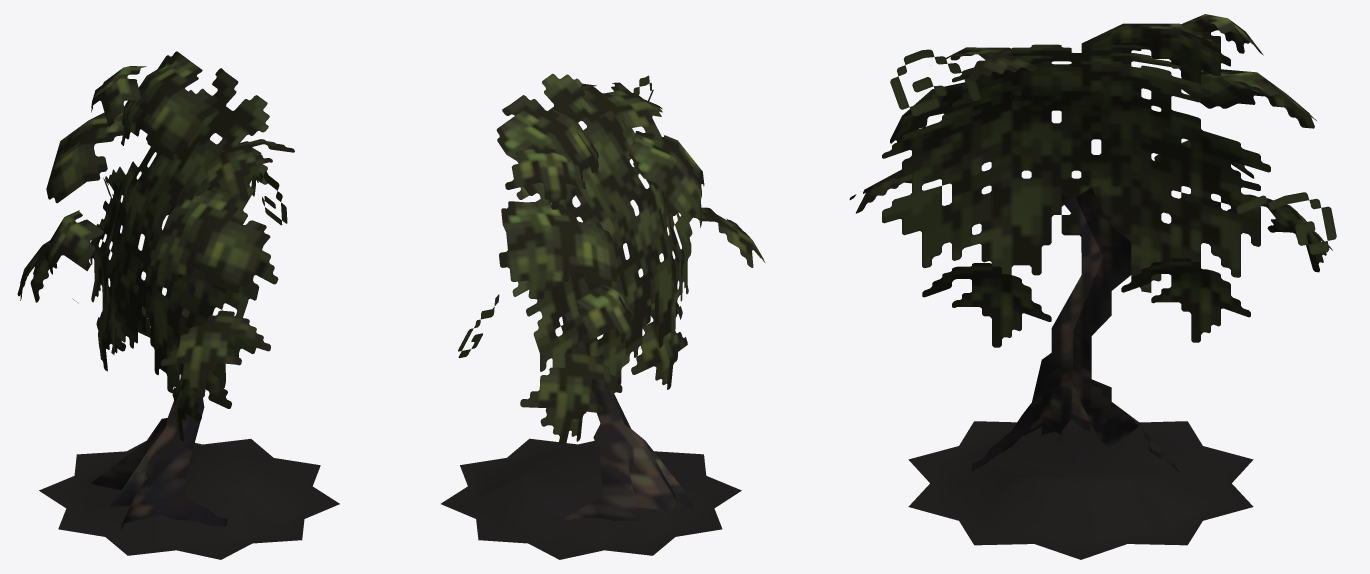
File: EnvFldMD_Tree_K_Grape_A.FBX
3 views of the same model, side by side, from view 1: azimuth 30°, elevation 25°; view 2: azimuth 150°, elevation 25°; view 3: azimuth 270°, elevation 25° (orthographic). The views are drawn at different scales.
Visible parts, largest first — view 1: EnvFldMD_Tree_K_Grape_A; view 2: EnvFldMD_Tree_K_Grape_A; view 3: EnvFldMD_Tree_K_Grape_A.
Boxes of the visible parts, x1,y1,x2,y2 form: EnvFldMD_Tree_K_Grape_A: (17, 51, 339, 559); EnvFldMD_Tree_K_Grape_A: (441, 73, 765, 559); EnvFldMD_Tree_K_Grape_A: (849, 14, 1336, 559).
Bounding box in the file's own units: 164 × 246 × 248.
Materials: 3 (3 with a texture image).
